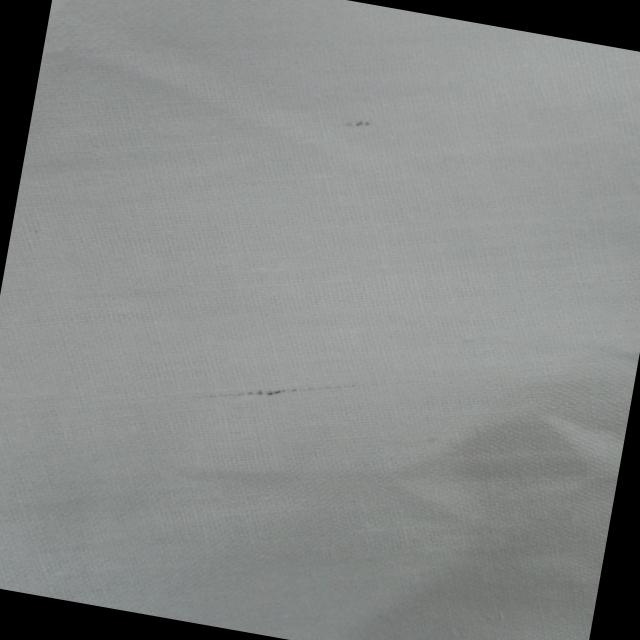contamination: (202, 349, 384, 432), (338, 112, 381, 134)
